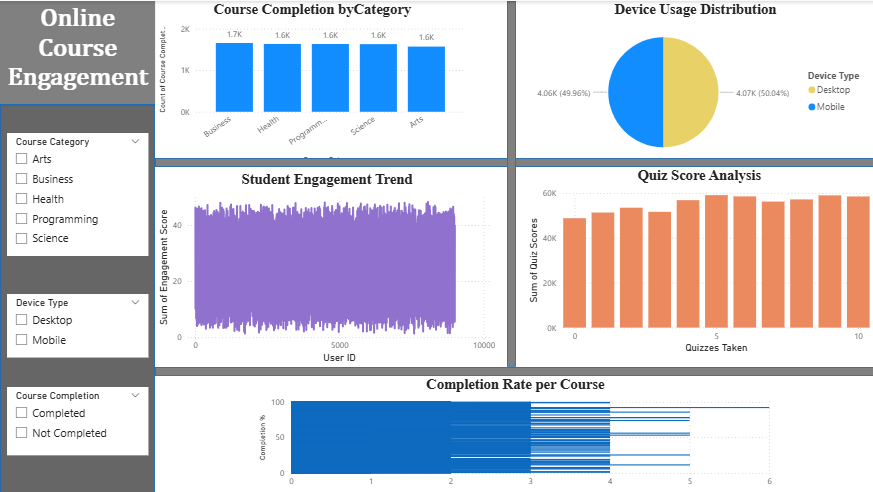

Layout of this report page (visuals, bound fields, positions):
{"tool":"powerbi","page":{"name":"Page 1","canvas":[1280,720],"ordinal":0},"visuals":[{"type":"lineChart","title":"Student Engagement Trend","fields":{"Category":["online_course_engagement_data.User ID"],"Y":["Sum(online_course_engagement_data.Engagement Score)"]},"box":[226.7,248.3,503.3,286.7],"z":0},{"type":"pieChart","title":"Device Usage Distribution","fields":{"Category":["online_course_engagement_data.Device Type"],"Y":["CountNonNull(online_course_engagement_data.Device Type)"]},"box":[755,0,525,243.3],"z":1000},{"type":"columnChart","title":"Course Completion byCategory","fields":{"Category":["online_course_engagement_data.Course Category"],"Y":["CountNonNull(online_course_engagement_data.Course Completion)"]},"box":[226.7,0,460,243.3],"z":2000},{"type":"clusteredColumnChart","title":"Quiz Score Analysis","fields":{"Category":["online_course_engagement_data.Quizzes Taken"],"Y":["Sum(online_course_engagement_data.Quiz Scores)"]},"box":[768.3,243.3,510,278.3],"z":3000},{"type":"clusteredBarChart","title":"Completion Rate per Course","fields":{"Y":["CountNonNull(online_course_engagement_data.Course Category)"],"Category":["online_course_engagement_data.Completion %"]},"box":[373.3,548.3,761.7,171.7],"z":4000},{"type":"shape","box":[0,0,226.7,720],"z":5000},{"type":"textbox","box":[0,0,226.7,151.7],"z":6000},{"type":"shape","box":[0,136.7,226.7,31.7],"z":7000},{"type":"slicer","fields":{"Values":["online_course_engagement_data.Course Category"]},"box":[10,193.3,206.7,180],"z":8000},{"type":"slicer","fields":{"Values":["online_course_engagement_data.Device Type"]},"box":[10,428.3,206.7,93.3],"z":9000},{"type":"slicer","fields":{"Values":["online_course_engagement_data.Course Completion"]},"box":[10,565,206.7,100],"z":10000},{"type":"shape","box":[226.7,230,1053.3,13.3],"z":11000},{"type":"shape","box":[226.7,230,1053.3,13.3],"z":12000},{"type":"shape","box":[226.7,535,1053.3,13.3],"z":13000},{"type":"shape","box":[741.7,0,13.3,535],"z":13001}]}

Visuals, with their boxes in screenshot pixels (x1, y1, x2, y2), scaled from the page's 1280x720 canvas onto the 873x492 screenshot:
"Student Engagement Trend" lineChart: bbox=(155, 170, 498, 366)
"Device Usage Distribution" pieChart: bbox=(515, 0, 872, 166)
"Course Completion byCategory" columnChart: bbox=(155, 0, 468, 166)
"Quiz Score Analysis" clusteredColumnChart: bbox=(524, 166, 872, 356)
"Completion Rate per Course" clusteredBarChart: bbox=(255, 375, 774, 491)
shape: bbox=(0, 0, 155, 491)
textbox: bbox=(0, 0, 155, 104)
shape: bbox=(0, 93, 155, 115)
slicer - online_course_engagement_data.Course Category: bbox=(7, 132, 148, 255)
slicer - online_course_engagement_data.Device Type: bbox=(7, 293, 148, 356)
slicer - online_course_engagement_data.Course Completion: bbox=(7, 386, 148, 454)
shape: bbox=(155, 157, 872, 166)
shape: bbox=(155, 157, 872, 166)
shape: bbox=(155, 366, 872, 375)
shape: bbox=(506, 0, 515, 366)
